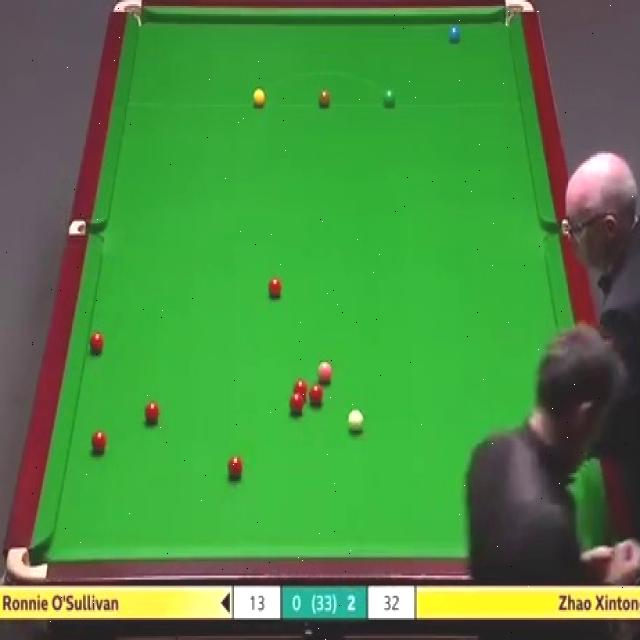blue-ball: (447, 20, 462, 45)
brown-ball: (318, 89, 331, 110)
green-ball: (382, 89, 397, 110)
pink-ball: (314, 361, 333, 385)
red-ball: (90, 429, 108, 457), (143, 402, 160, 428), (267, 275, 284, 300), (228, 455, 244, 480), (288, 393, 304, 417), (88, 331, 103, 356), (308, 383, 324, 406), (292, 379, 308, 400)
white-ball: (346, 406, 365, 437)
yellow-ball: (252, 88, 266, 109)
